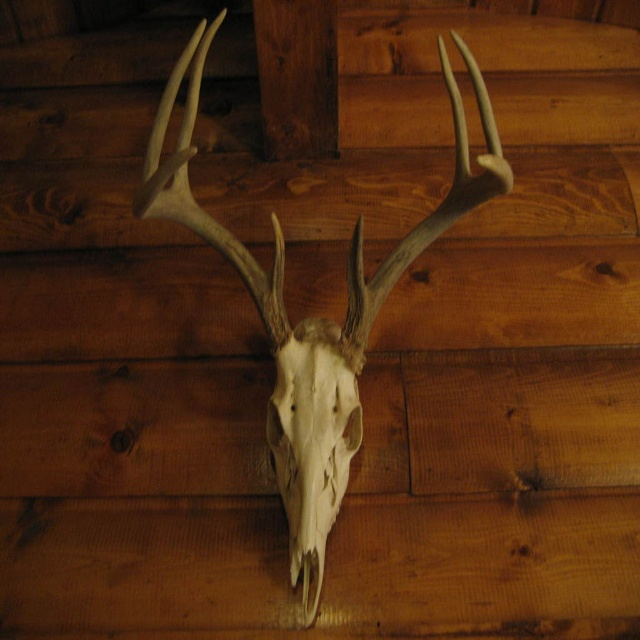Deer: (131, 7, 513, 625)
